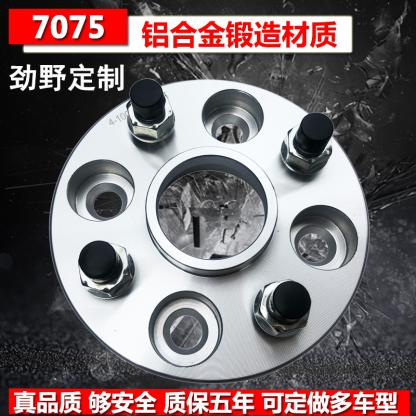FOD: (43, 76, 377, 386)
